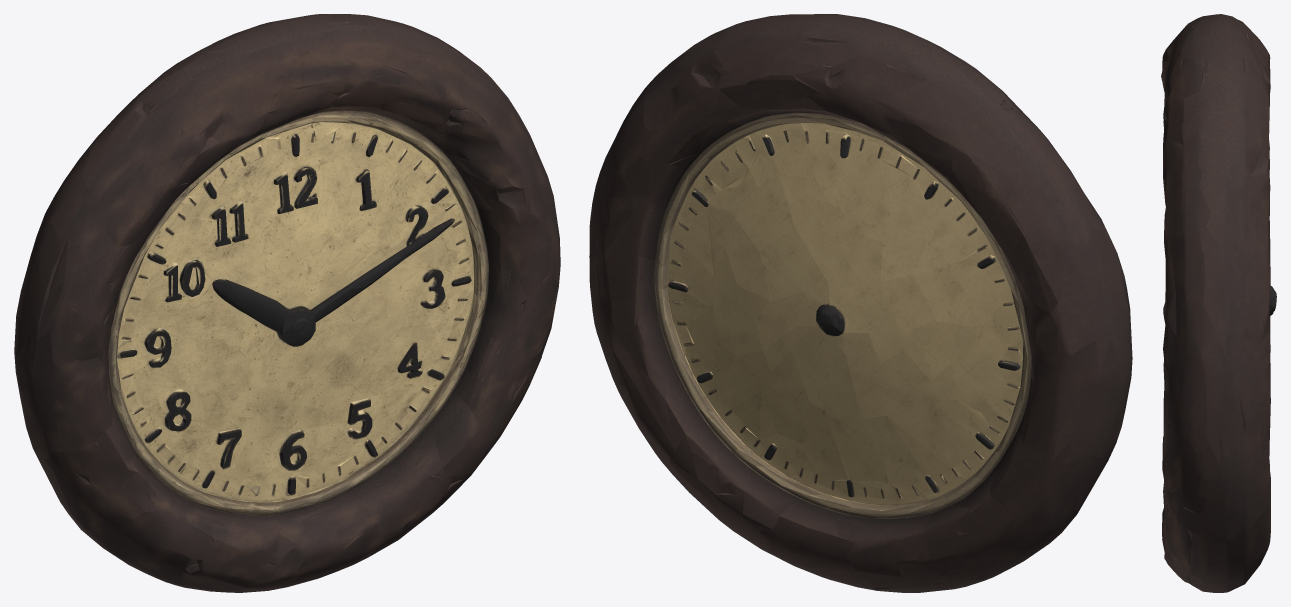
File: orologio.glb
3 renders of one model, left to right at view 1: azimuth 30°, elevation 25°; view 2: azimuth 150°, elevation 25°; view 3: azimuth 270°, elevation 25°, orthographic. The views are drawn at different scales.
Parts seen in each view (by area): view 1: Mesh_0; view 2: Mesh_0; view 3: Mesh_0.
Part boxes in pixels (<box>): Mesh_0: <box>14,14,560,592</box>; Mesh_0: <box>589,14,1132,592</box>; Mesh_0: <box>1161,14,1276,592</box>.
Size of the model in its own units: 1.9 by 1.9 by 0.3814.
1 material, 1 textured.
